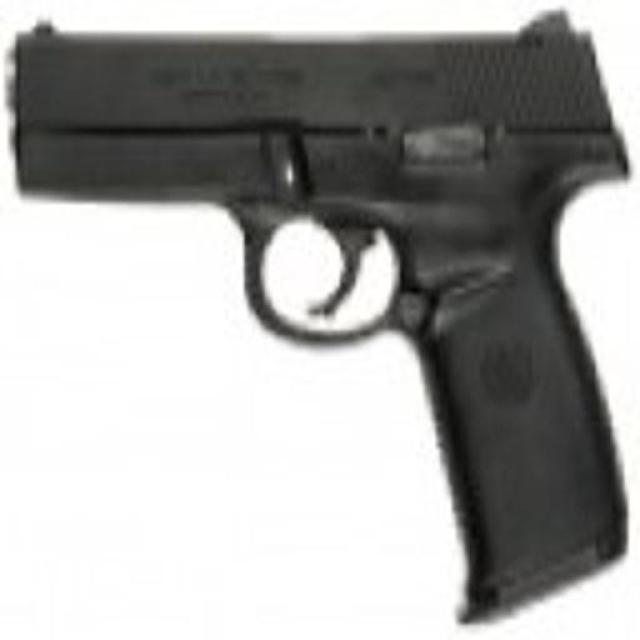pistol: (4, 15, 620, 617)
